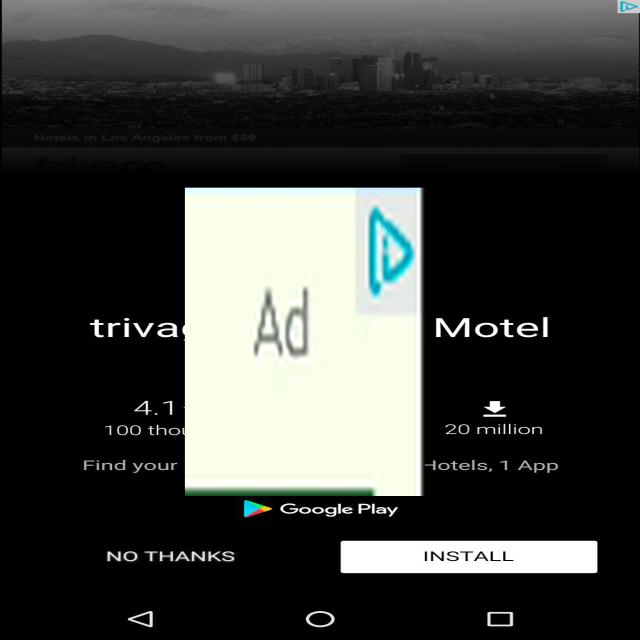sneaking: (185, 188, 425, 496)
